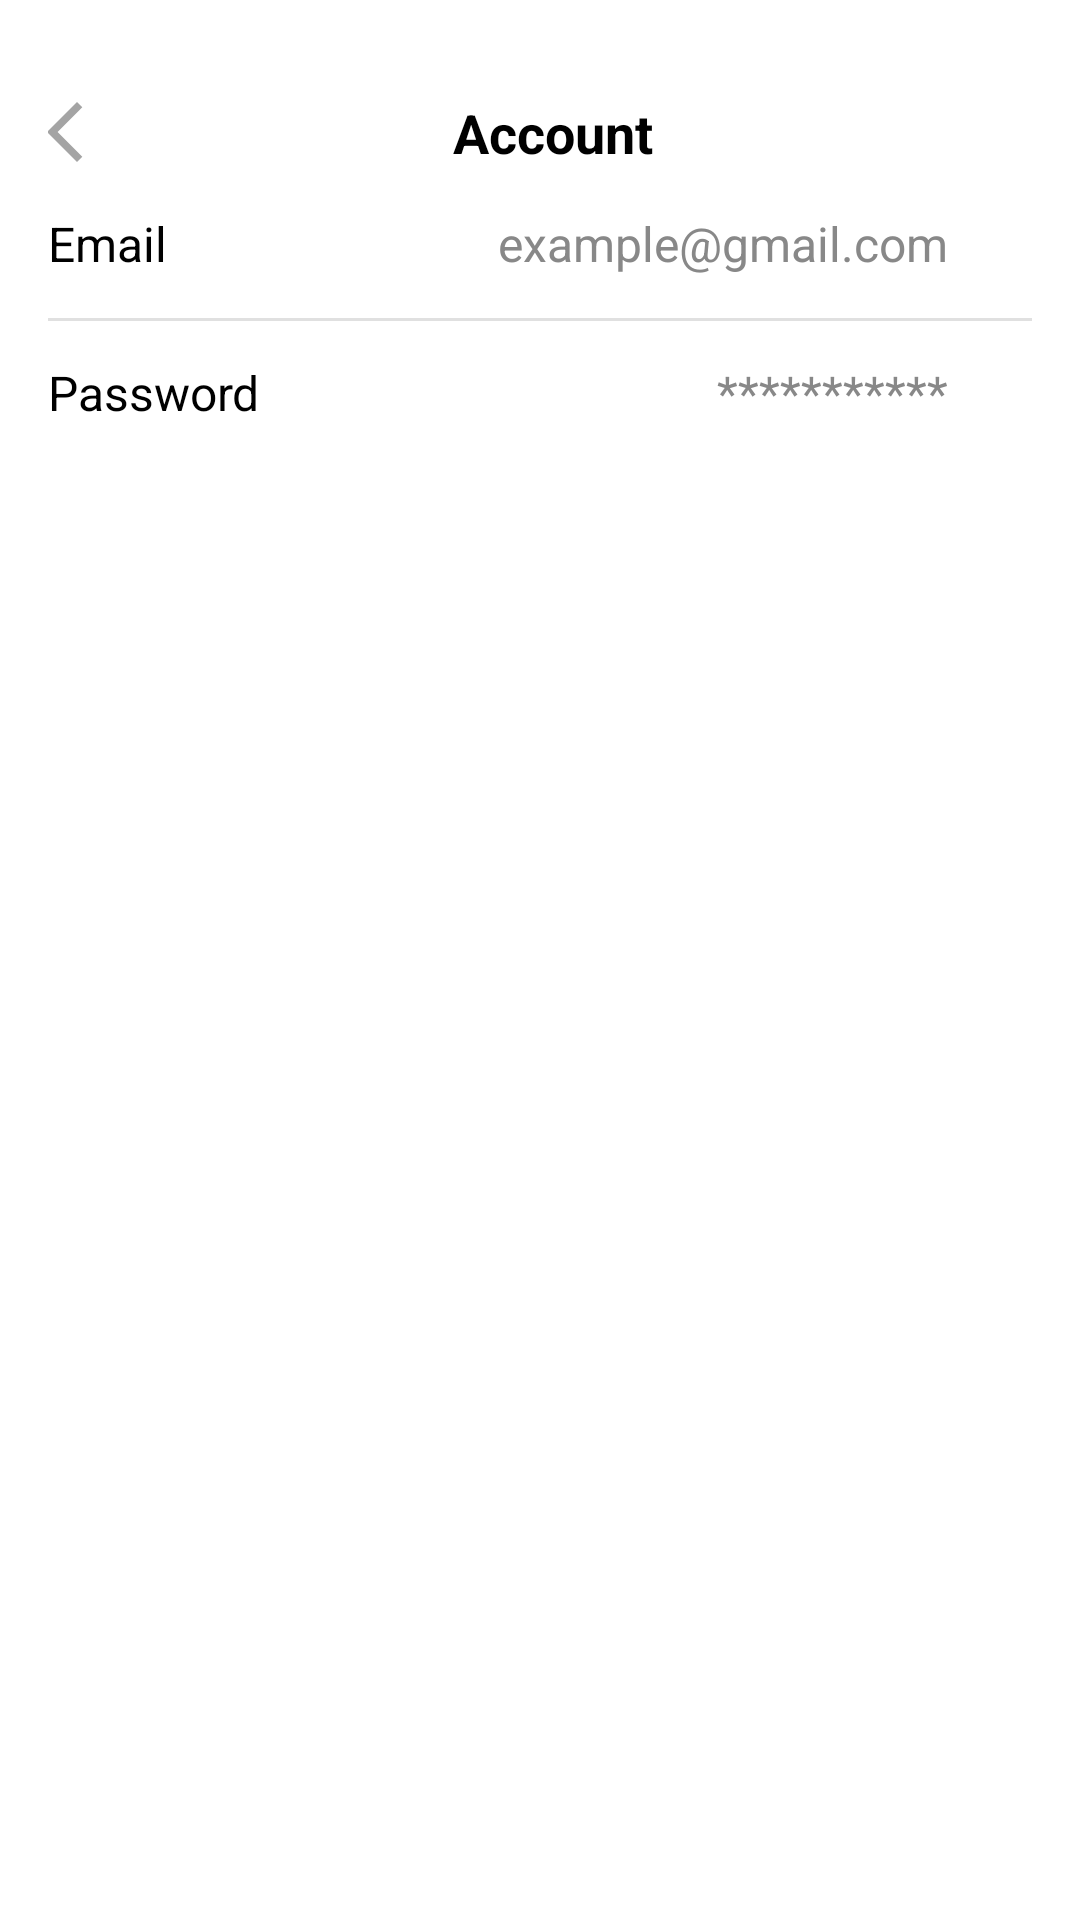

Icon click points for this 1080px×1920px phone screenshot, format (x,y):
Back: (65,132)
